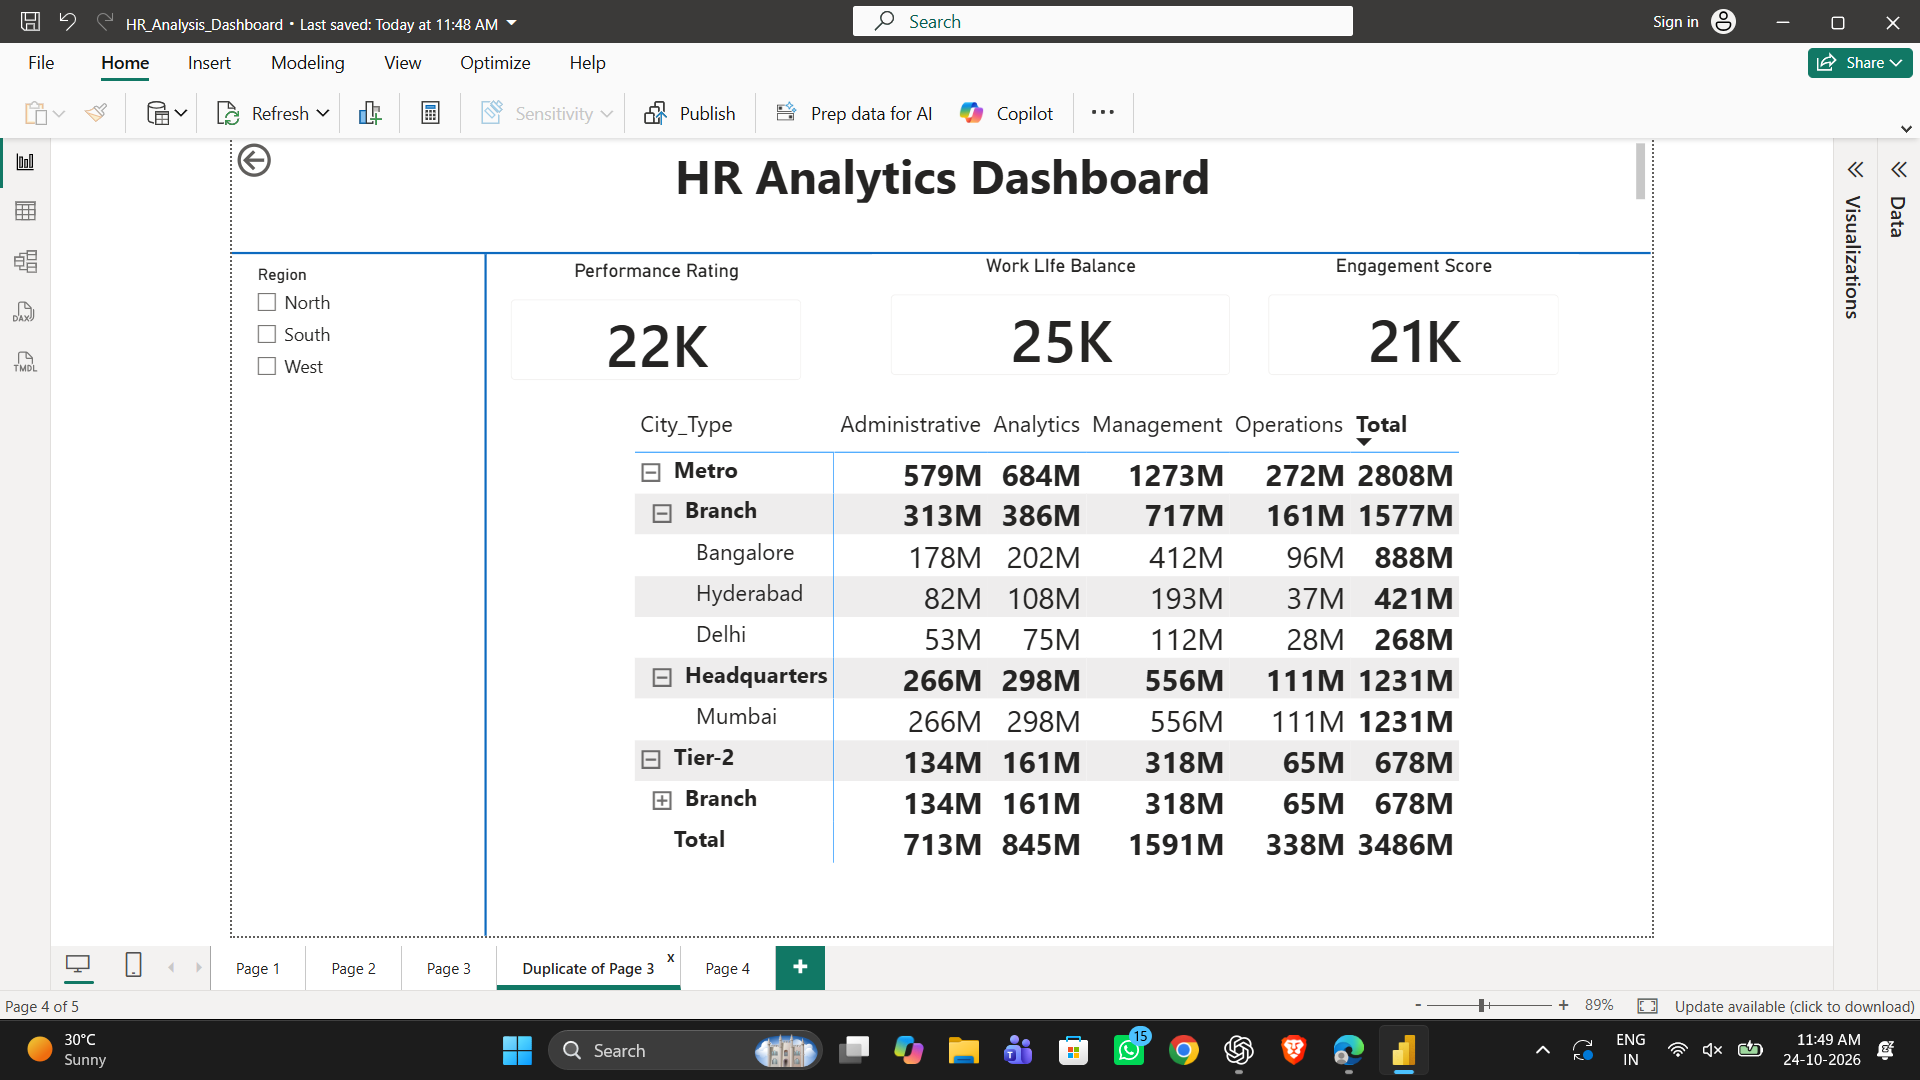

The page's visual inventory and layout, read from the dashboard file:
{"tool":"powerbi","page":{"name":"Duplicate of Page 3","canvas":[1280,720],"ordinal":3},"visuals":[{"type":"textbox","box":[10.6,0,1268.9,63.6],"z":0},{"type":"shape","box":[0,105.2,457.3,614.8],"z":1000},{"type":"shape","box":[0,0,1279.5,207.4],"z":2000},{"type":"slicer","fields":{"Values":["Dim_Location.Region"]},"box":[10.6,109,205.9,195.3],"z":3000},{"type":"cardVisual","title":"Performance Rating","fields":{"Data":["Sum(HR_Fact.Performance_Rating)"]},"box":[234.7,109,296.8,127.2],"z":4000},{"type":"cardVisual","title":"Work LIfe Balance","fields":{"Data":["Sum(HR_Fact.Work_Life_Balance)"]},"box":[576.9,104.5,340.7,127.2],"z":5000},{"type":"cardVisual","title":"Engagement Score","fields":{"Data":["Sum(HR_Fact.Engagement_Score)"]},"box":[917.6,104.5,296.8,127.2],"z":6000},{"type":"actionButton","box":[0,0,100,40],"z":7000},{"type":"pivotTable","fields":{"Rows":["Dim_Location.City_Type","Dim_Location.Office_Type","Dim_Location.Location_Name"],"Columns":["Dim_JobRole.Job_Family"],"Values":["Sum(HR_Fact.Salary)"]},"box":[358.9,236.2,778.3,428.5],"z":8000}]}

Visuals, with their boxes on the page's 1280x720 design canvas (x1, y1, x2, y2). These are canvas units, not pixel positions in the 1920x1080 screenshot, which may show the page scaled, cropped or inside an application window:
textbox: BBox(11, 0, 1280, 64)
shape: BBox(0, 105, 457, 720)
shape: BBox(0, 0, 1280, 207)
slicer - Dim_Location.Region: BBox(11, 109, 216, 304)
"Performance Rating" cardVisual: BBox(235, 109, 532, 236)
"Work LIfe Balance" cardVisual: BBox(577, 104, 918, 232)
"Engagement Score" cardVisual: BBox(918, 104, 1214, 232)
actionButton: BBox(0, 0, 100, 40)
pivotTable - Dim_Location.City_Type x Dim_Location.Office_Type: BBox(359, 236, 1137, 665)
